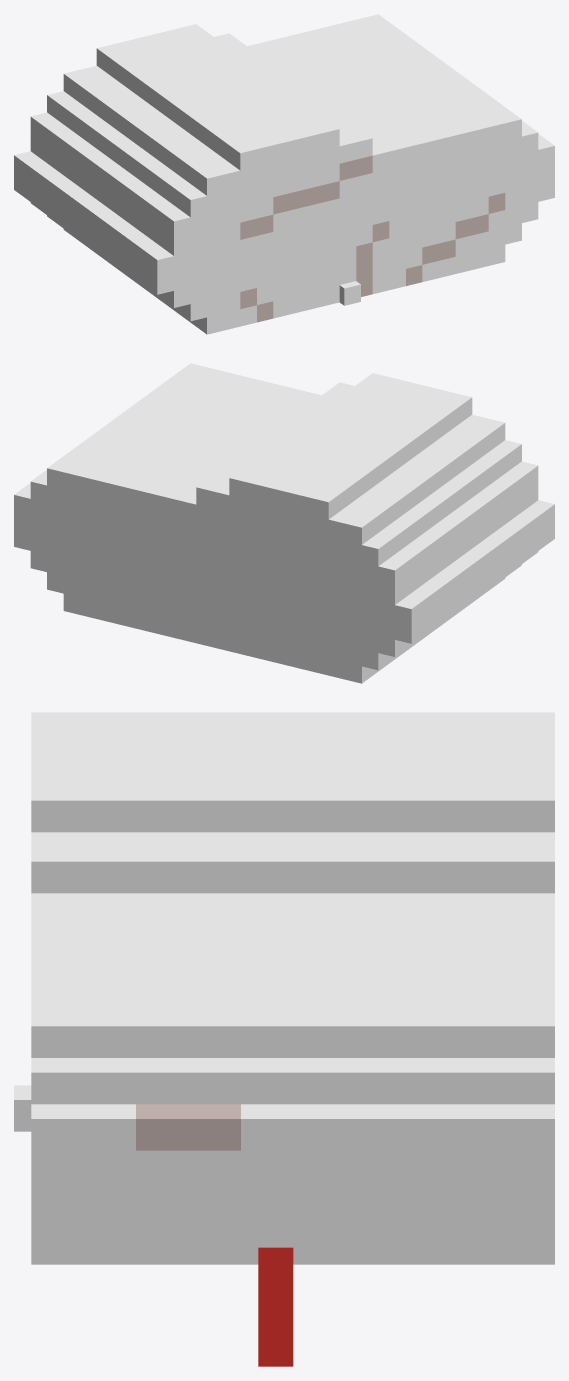
Rendered from chefhat.glb.
3 renders of one model, top to bottom at view 1: azimuth 30°, elevation 25°; view 2: azimuth 150°, elevation 25°; view 3: azimuth 270°, elevation 25°, orthographic. The views are drawn at different scales.
Parts seen in each view (by area): view 1: top, a1; view 2: top; view 3: top, glasses, a1.
Part boxes in pixels (left/top/right/bottom): top: left=14, top=14, right=554, bottom=334; a1: left=339, top=281, right=360, bottom=305; top: left=14, top=363, right=554, bottom=683; top: left=31, top=712, right=554, bottom=1264; glasses: left=258, top=1247, right=293, bottom=1366; a1: left=14, top=1085, right=31, bottom=1131.
Bounding box in the file's own units: 24 × 13 × 15.5.
Materials: 14 (14 with a texture image).
